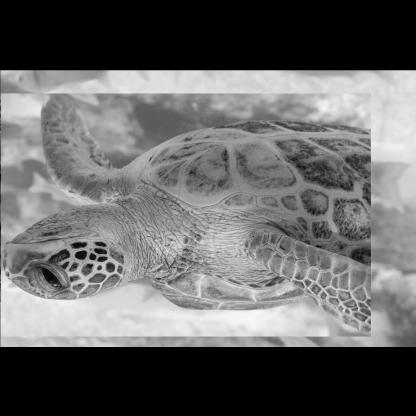turtle: (0, 91, 370, 335)
